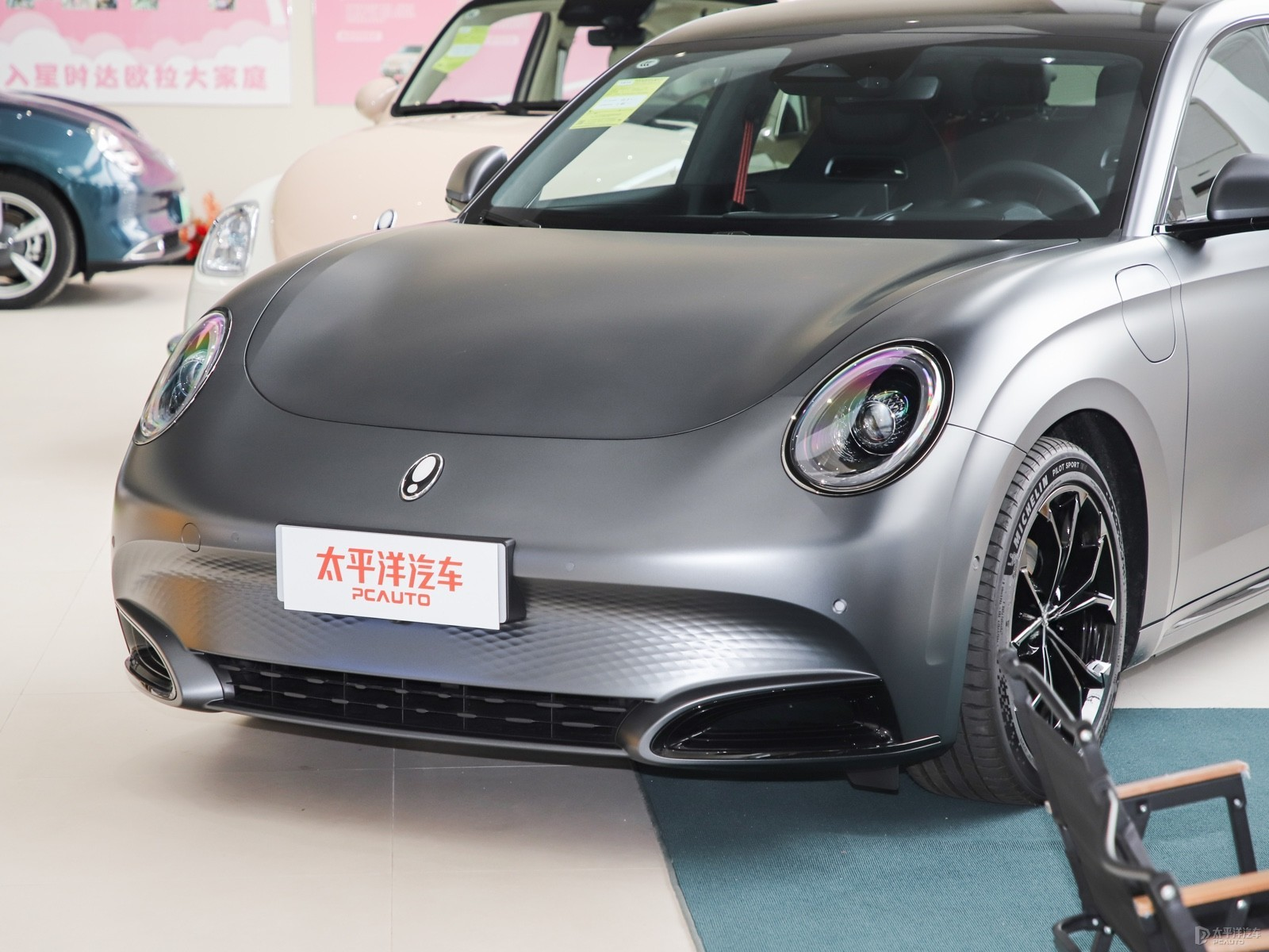ORA: (401, 454, 443, 500)
